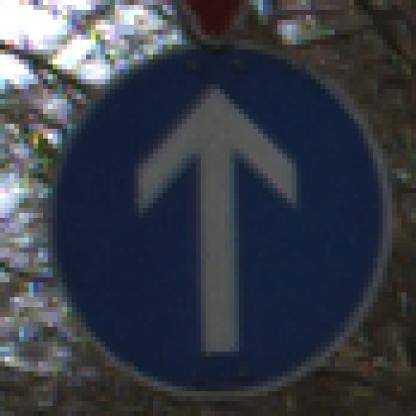AheadOnly: (39, 36, 384, 382)
